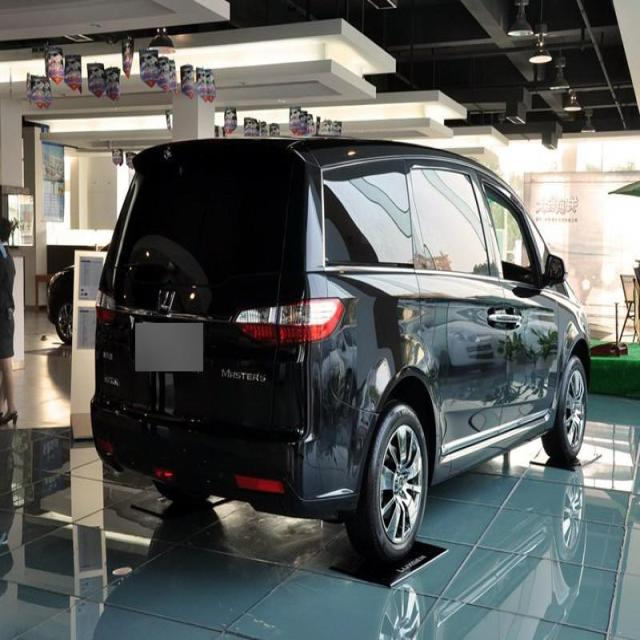back_glass: (98, 153, 300, 320)
back_left_side_light: (94, 288, 120, 326)
back_right_side_light: (230, 296, 348, 345)
door: (408, 163, 498, 439)
front_right_side_door: (473, 164, 557, 438)
front_right_side_mirror: (546, 250, 568, 294)
rear_bumper: (89, 392, 320, 522)
wheel: (345, 406, 429, 561), (540, 351, 589, 459)
